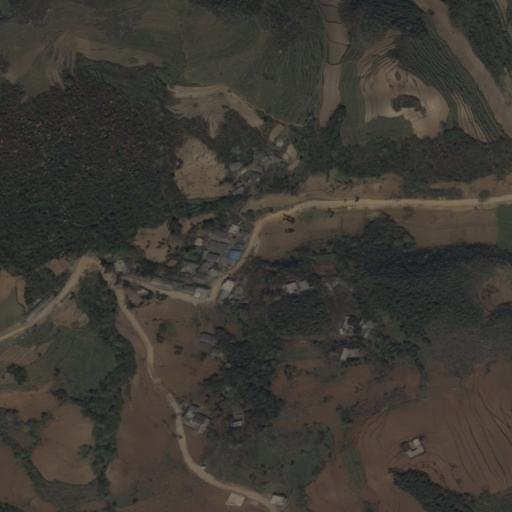landslide: (172, 135, 225, 198), (134, 219, 170, 264)
